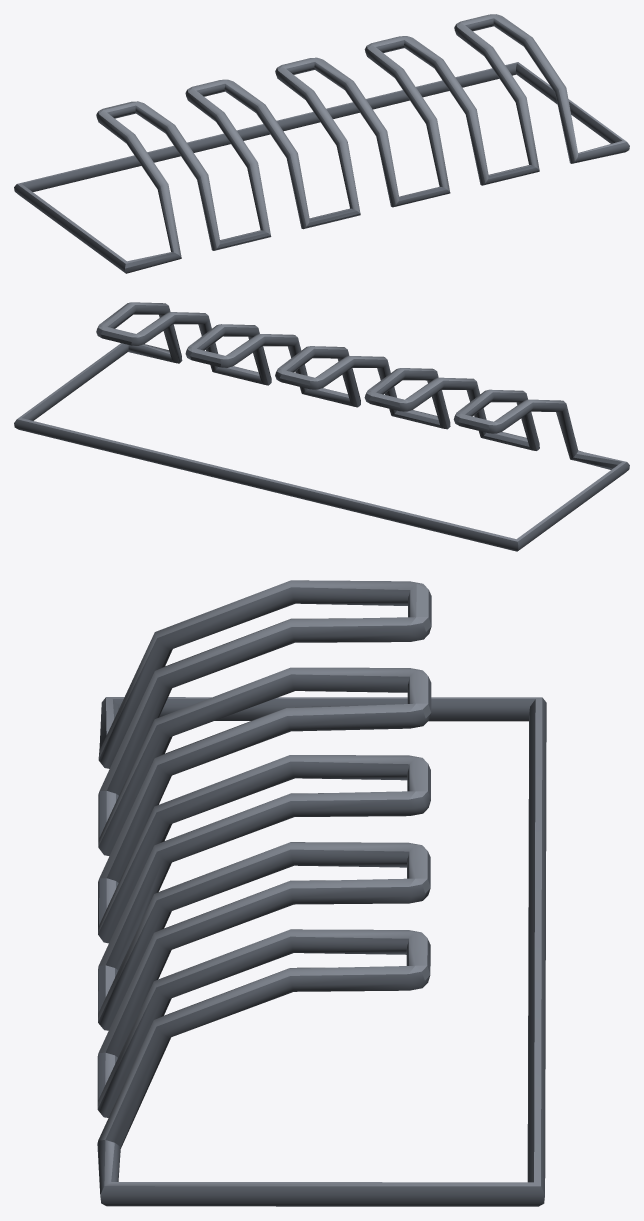
File: Bike_Rack.glb
The picture shows the model from 3 angles, top to bottom: view 1: azimuth 30°, elevation 25°; view 2: azimuth 150°, elevation 25°; view 3: azimuth 270°, elevation 25°; orthographic projection. The views are drawn at different scales.
Parts seen in each view (by area): view 1: bikeRack; view 2: bikeRack; view 3: bikeRack.
Part boxes in pixels (x1,y1,x2,y2): bikeRack: [14, 14, 629, 273]; bikeRack: [14, 302, 629, 551]; bikeRack: [97, 580, 546, 1206].
Size of what is drawn, in the model's own units: 5.07 by 0.904 by 1.95.
Materials: 1 (1 with a texture image).
